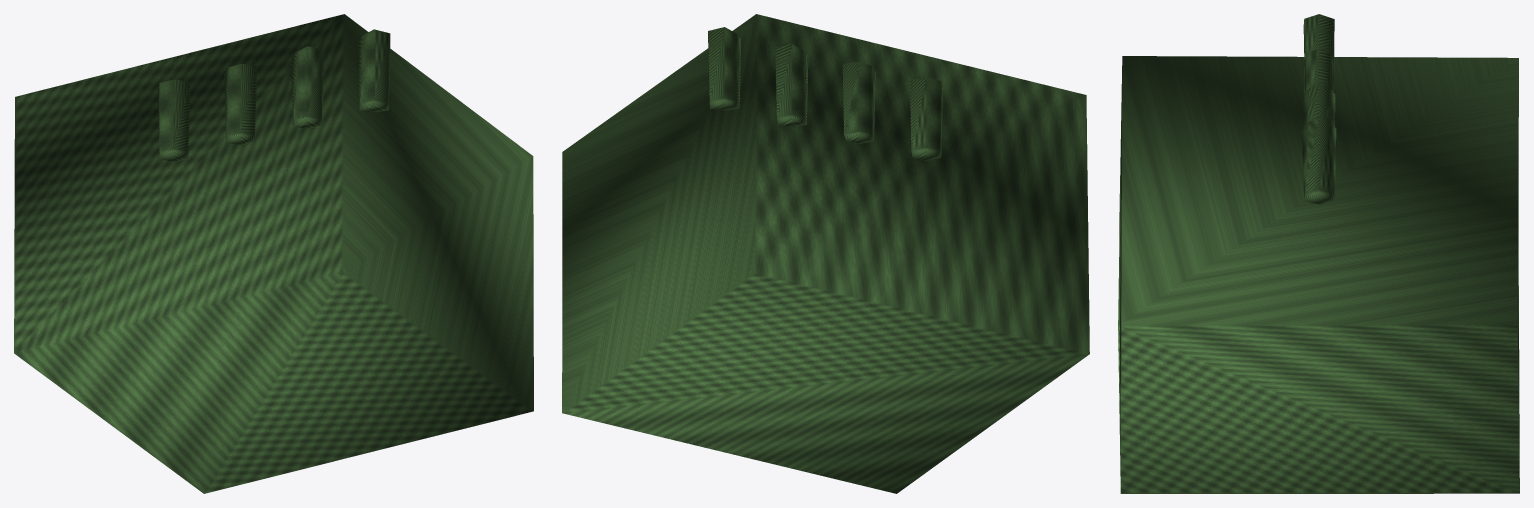
Rendered from prop_shells_low.glb.
3 views of the same model, side by side, from view 1: azimuth 30°, elevation 25°; view 2: azimuth 150°, elevation 25°; view 3: azimuth 270°, elevation 25° (orthographic). The views are drawn at different scales.
Bounding box in the file's own units: 0.3981 × 0.3689 × 0.3988.
1 material, 1 textured.
